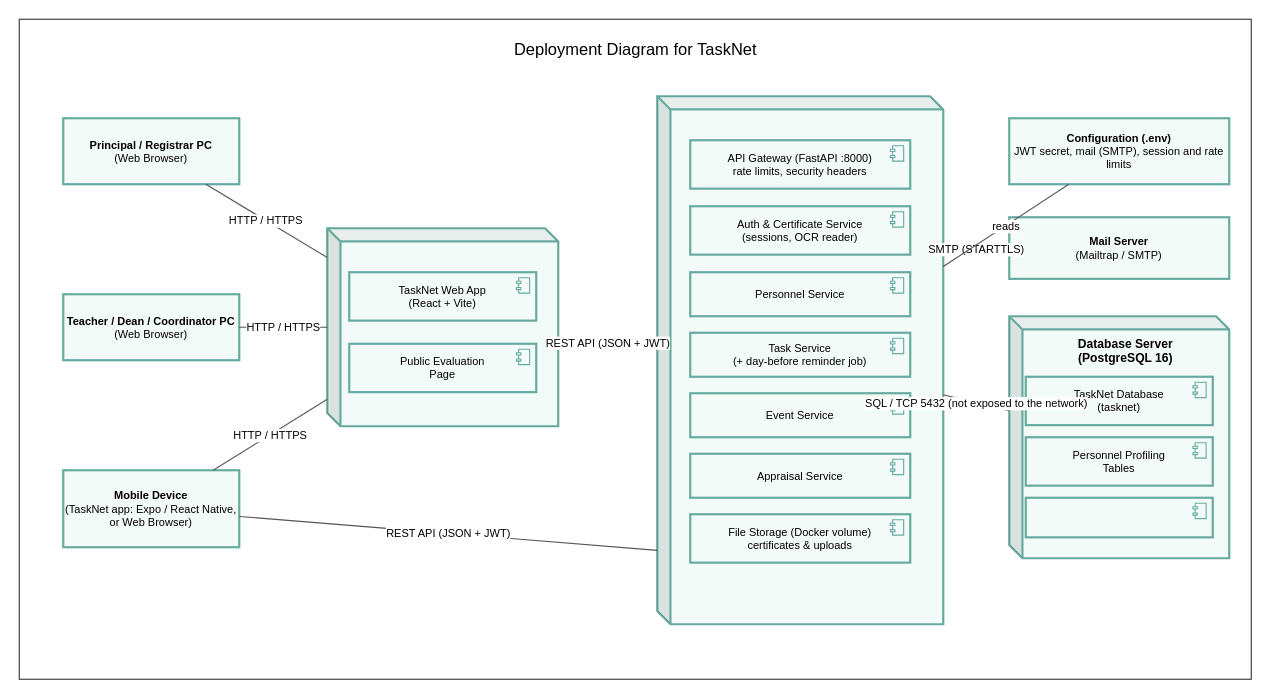
The diagram is 1271 pixels wide and 699 high, and some of its shapes have lost their labels. The box of each missing label's shape, as (x1, y1, x2, y2) in pixels:
Application Server (Docker): (656, 95, 944, 625)
Audit Log: (1024, 496, 1213, 538)
Web Server (nginx): (326, 227, 559, 427)
